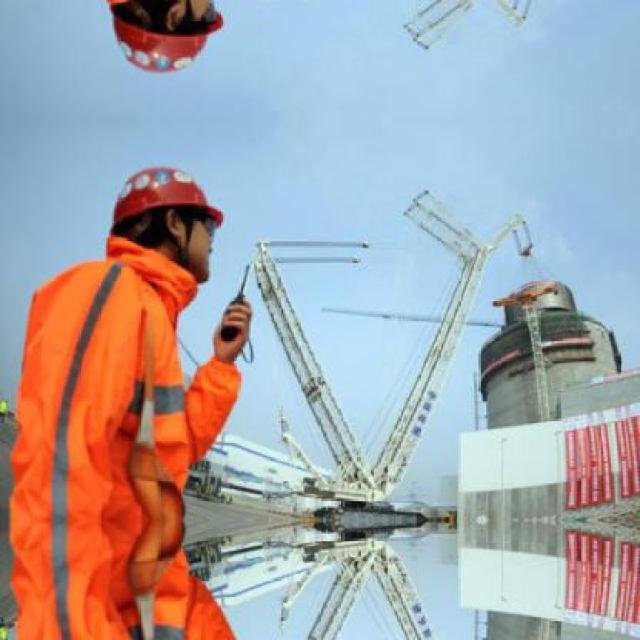helmet: (98, 152, 234, 282), (98, 0, 235, 86)
